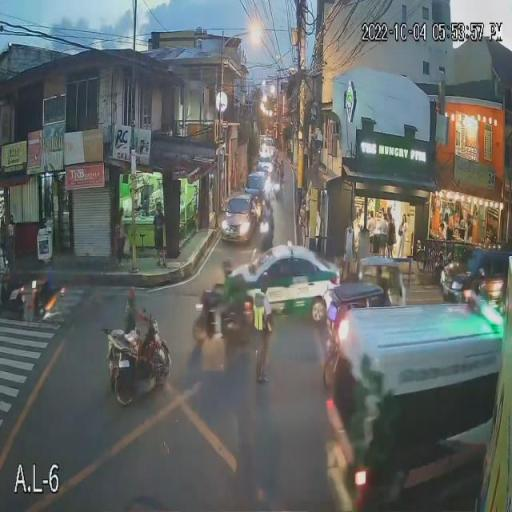helmet: (222, 260, 234, 273), (263, 194, 272, 210)
motorcycle: (102, 306, 172, 406), (193, 286, 254, 358), (0, 277, 66, 322), (256, 217, 274, 253)
rider: (210, 259, 250, 334), (108, 300, 148, 371), (18, 266, 46, 314), (255, 198, 277, 244)
